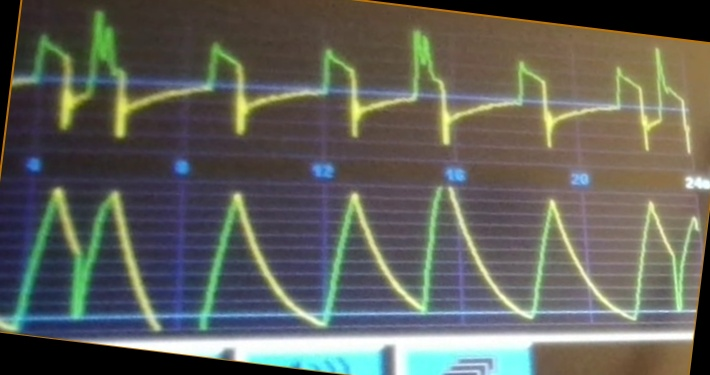Double_Triggering Flow: (20, 7, 692, 157)
Double_Triggering Volume: (5, 183, 699, 333)
